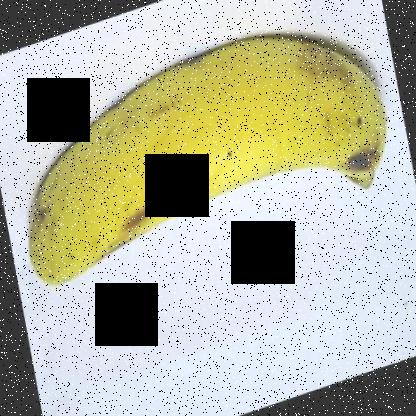freshripe: (15, 27, 393, 301)
